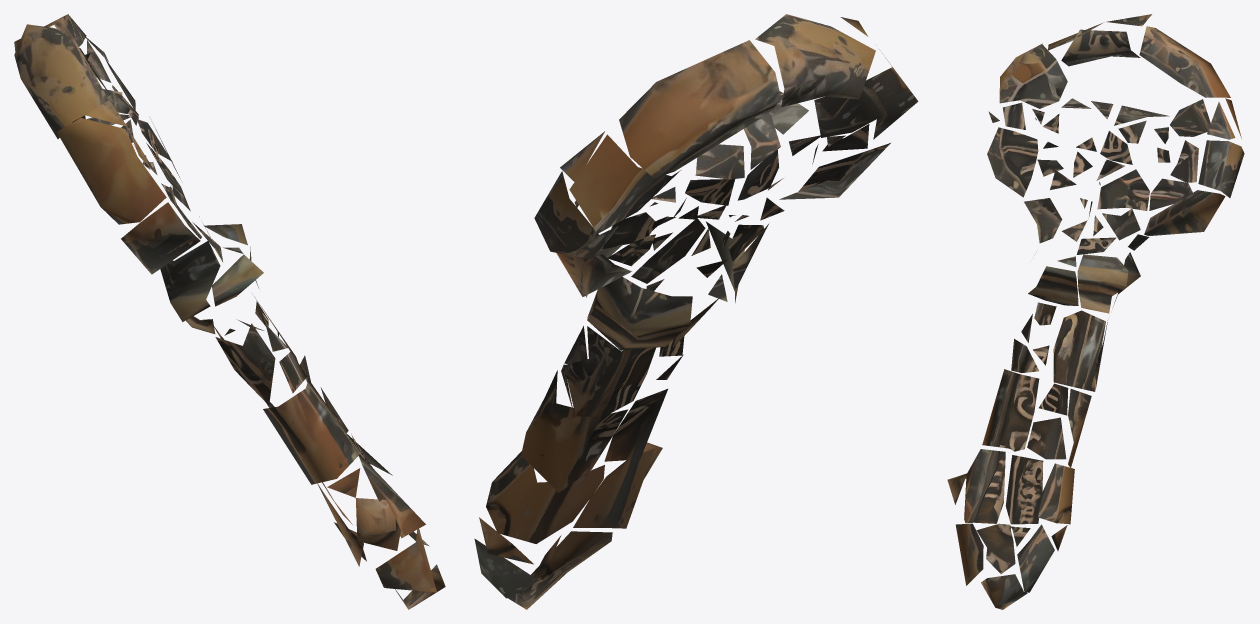
File: prop_vaelor_key_LOD3.glb
The picture shows the model from 3 angles, left to right: view 1: azimuth 30°, elevation 25°; view 2: azimuth 150°, elevation 25°; view 3: azimuth 270°, elevation 25°; orthographic projection. The views are drawn at different scales.
Parts seen in each view (by area): view 1: tripo_node_fc8d93ac-b99c-4fb0-929b-ac9bd457dcb8; view 2: tripo_node_fc8d93ac-b99c-4fb0-929b-ac9bd457dcb8; view 3: tripo_node_fc8d93ac-b99c-4fb0-929b-ac9bd457dcb8.
Boxes of the visible parts, x1,y1,x2,y2 form: tripo_node_fc8d93ac-b99c-4fb0-929b-ac9bd457dcb8: (14, 14, 445, 609); tripo_node_fc8d93ac-b99c-4fb0-929b-ac9bd457dcb8: (474, 14, 918, 609); tripo_node_fc8d93ac-b99c-4fb0-929b-ac9bd457dcb8: (947, 14, 1244, 609).
Bounding box in the file's own units: 0.6302 × 1 × 0.5623.
Materials: 1 (1 with a texture image).
